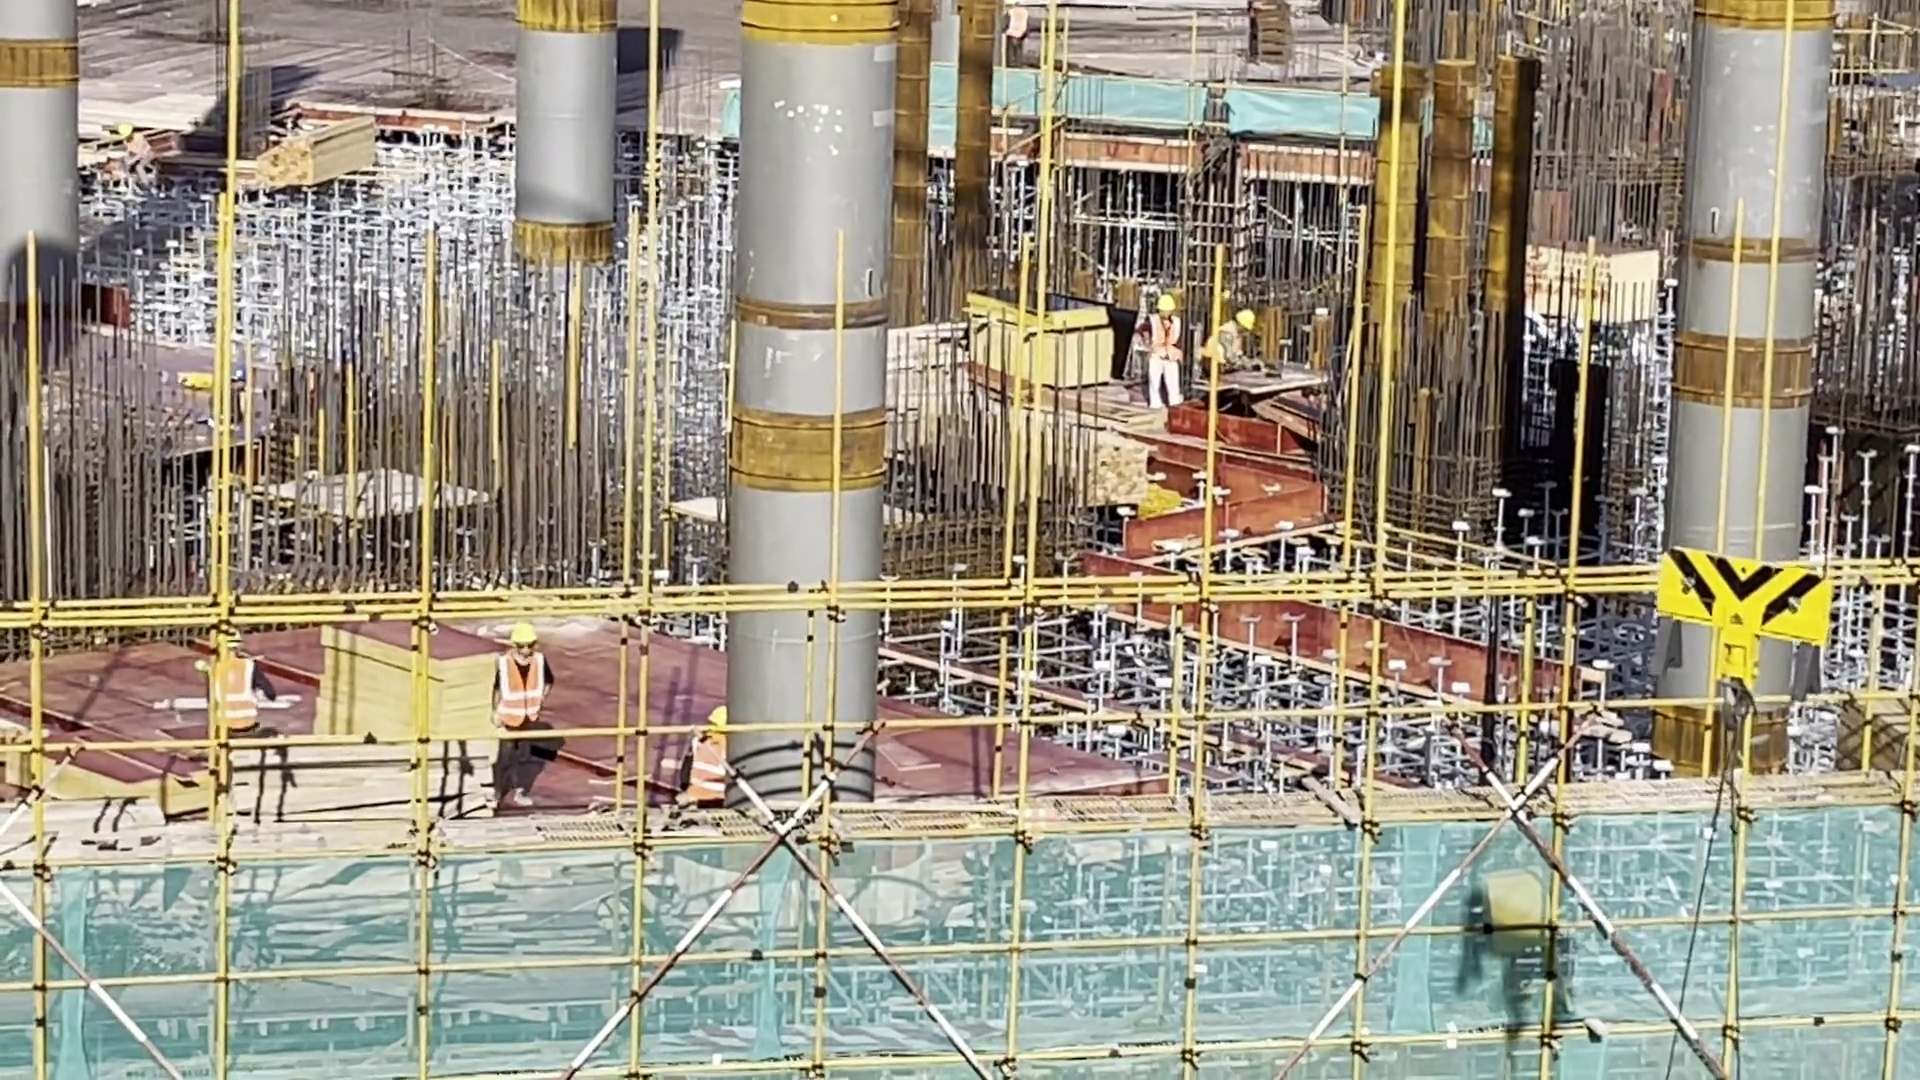board: (305, 623, 493, 784), (954, 277, 1122, 409), (1813, 680, 1920, 778)
ebox: (1466, 860, 1591, 1034)
helmet: (505, 612, 546, 657), (1155, 292, 1180, 319), (1232, 306, 1257, 333), (706, 707, 731, 733)
hook: (1644, 542, 1837, 691)
person: (490, 602, 555, 815), (206, 631, 280, 754), (675, 704, 738, 833), (1141, 286, 1187, 417), (1198, 307, 1258, 391)
vest: (688, 729, 738, 810), (496, 651, 548, 726), (207, 658, 263, 729), (1148, 312, 1182, 365)
wood: (202, 712, 516, 894), (236, 91, 381, 213)
